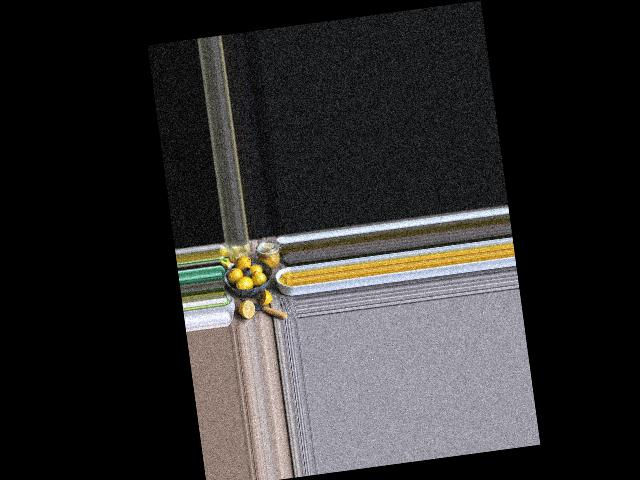lemon: (251, 270, 267, 287)
